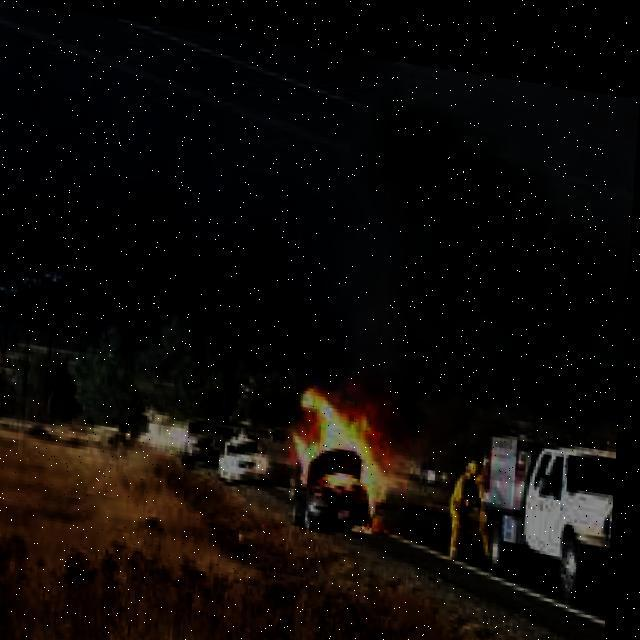Fire: (278, 370, 414, 534)
